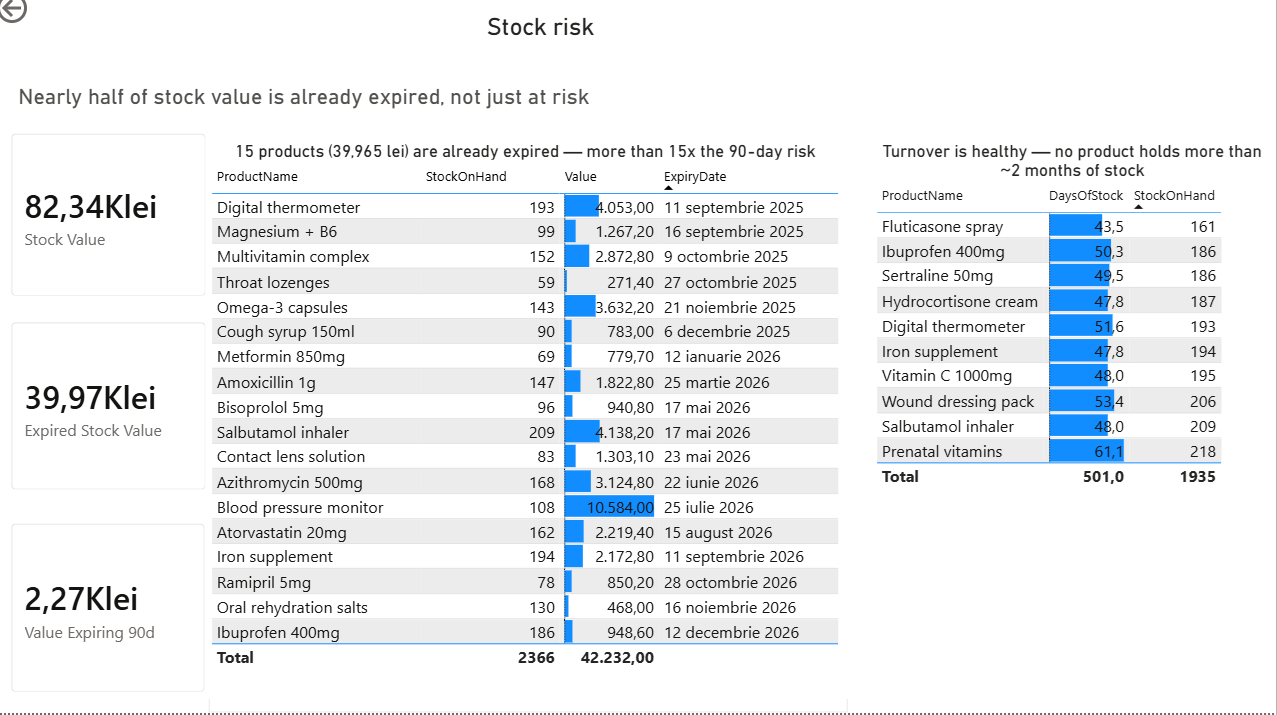

What the dashboard file says about the page in this screenshot:
{"tool":"powerbi","page":{"name":"Stock  risk","canvas":[1280,720],"ordinal":3},"visuals":[{"type":"cardVisual","fields":{"Data":["Inventory.Stock Value"]},"box":[3.1,128.5,228.6,196.1],"z":0},{"type":"cardVisual","fields":{"Data":["Inventory.Value Expiring 90d"]},"box":[3.1,518.2,227.3,202.3],"z":1000},{"type":"cardVisual","fields":{"Data":["Inventory.Expired Stock Value"]},"box":[3.1,317.1,228.6,201.1],"z":2000},{"type":"tableEx","title":"15 products (39,965 lei) are already expired — more than 15x the 90-day risk","fields":{"Values":["Inventory.ProductName","Sum(Inventory.StockOnHand)","Sum(Inventory.Value)","Inventory.ExpiryDate"]},"box":[213.6,152.4,638.3,567.1],"z":3000},{"type":"actionButton","box":[0,0,100,40],"z":4000},{"type":"tableEx","title":"Turnover is healthy — no product holds more than ~2 months of stock","fields":{"Values":["Slow Movers.ProductName","Sum(Slow Movers.DaysOfStock)","Sum(Slow Movers.StockOnHand)"]},"box":[878.1,152.4,402.2,412.2],"z":5000},{"type":"textbox","box":[21.2,91.2,607,38.7],"z":6000},{"type":"textbox","box":[489.6,20,299.8,46.2],"z":7000}]}

Visuals, with their boxes in screenshot pixels (x1, y1, x2, y2), scaled from the page's 1280x720 canvas onto the 1277x715 screenshot:
cardVisual - Inventory.Stock Value: (x1=3, y1=128, x2=231, y2=322)
cardVisual - Inventory.Value Expiring 90d: (x1=3, y1=515, x2=230, y2=714)
cardVisual - Inventory.Expired Stock Value: (x1=3, y1=315, x2=231, y2=515)
"15 products (39,965 lei) are already expired — more than 15x the 90-day risk" tableEx: (x1=213, y1=151, x2=850, y2=714)
actionButton: (x1=0, y1=0, x2=100, y2=40)
"Turnover is healthy — no product holds more than ~2 months of stock" tableEx: (x1=876, y1=151, x2=1276, y2=561)
textbox: (x1=21, y1=91, x2=627, y2=129)
textbox: (x1=488, y1=20, x2=788, y2=66)
